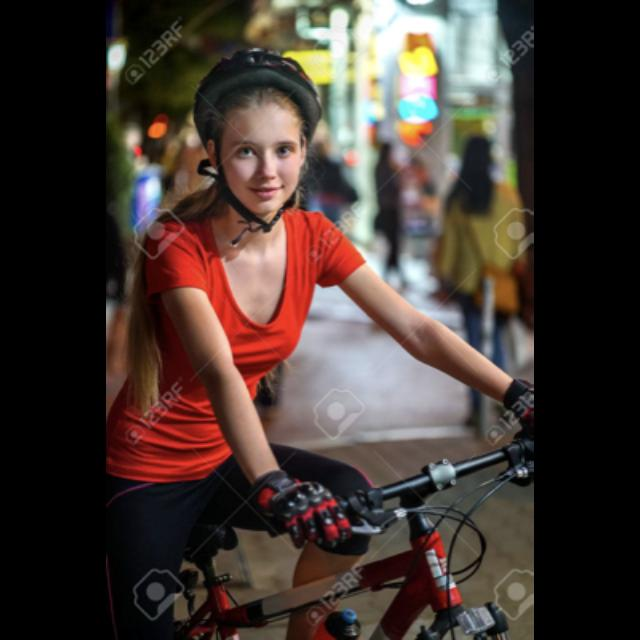With Helmet: (189, 50, 327, 228)
